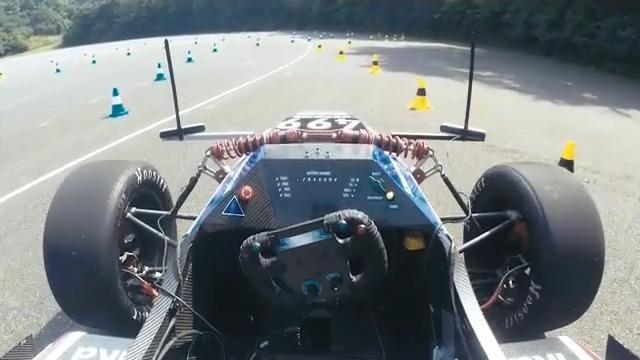blue_cone: (106, 85, 130, 117), (154, 62, 165, 81), (185, 49, 194, 64), (90, 53, 98, 66), (124, 48, 132, 58), (212, 41, 218, 54), (254, 37, 261, 47), (54, 62, 60, 73), (290, 34, 295, 43), (307, 35, 312, 43), (319, 34, 324, 40)
yellow_cone: (539, 138, 589, 241), (408, 79, 431, 111), (369, 54, 381, 74), (338, 49, 346, 63), (316, 43, 323, 54), (49, 57, 56, 68), (114, 46, 120, 56), (346, 40, 352, 49), (83, 51, 89, 60), (142, 42, 148, 49), (369, 35, 374, 43), (393, 33, 397, 42), (0, 71, 3, 81), (385, 35, 389, 42), (401, 34, 405, 40)
